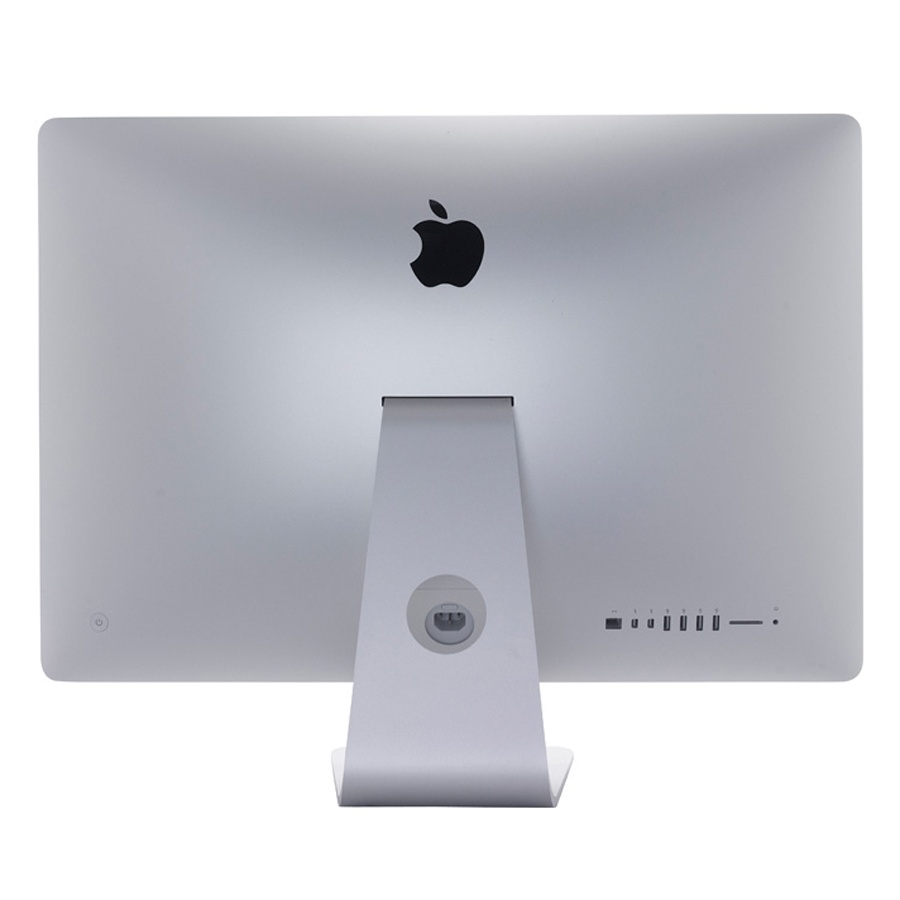Apple: (261, 169, 567, 412)
